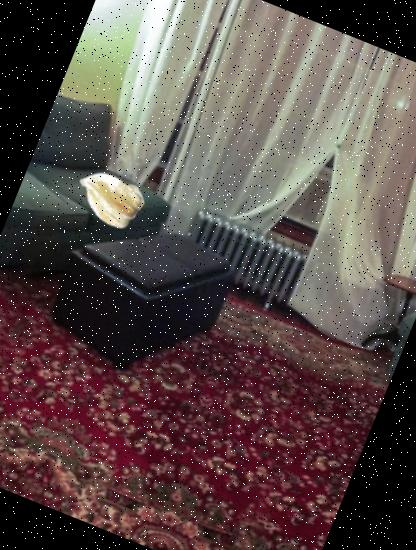Physalis: (65, 153, 152, 240)
